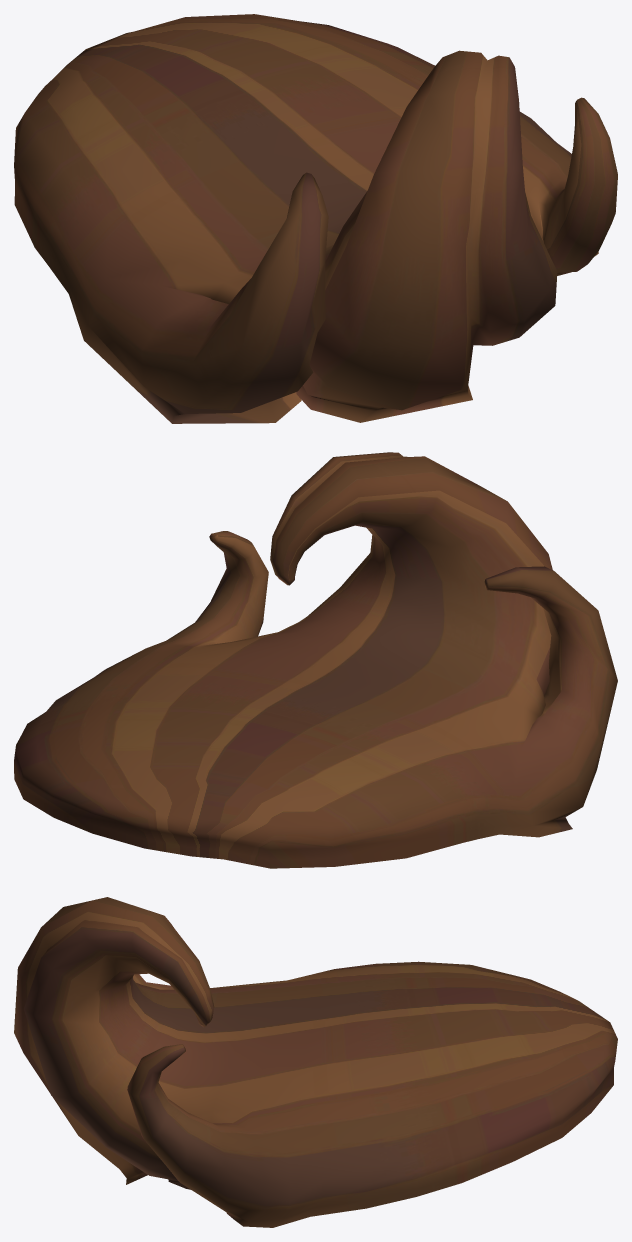
Rendered from JOJO_hair.FBX.
The picture shows the model from 3 angles, top to bottom: view 1: azimuth 30°, elevation 25°; view 2: azimuth 150°, elevation 25°; view 3: azimuth 270°, elevation 25°; orthographic projection. The views are drawn at different scales.
Parts seen in each view (by area): view 1: JOJO_hair; view 2: JOJO_hair; view 3: JOJO_hair.
Part boxes in pixels (<box>): JOJO_hair: <box>14,14,617,423</box>; JOJO_hair: <box>14,452,617,868</box>; JOJO_hair: <box>14,897,617,1227</box>.
Bounding box in the file's own units: 11.71 × 7.4 × 14.84.
